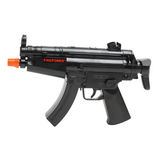rifle: (8, 26, 155, 143)
